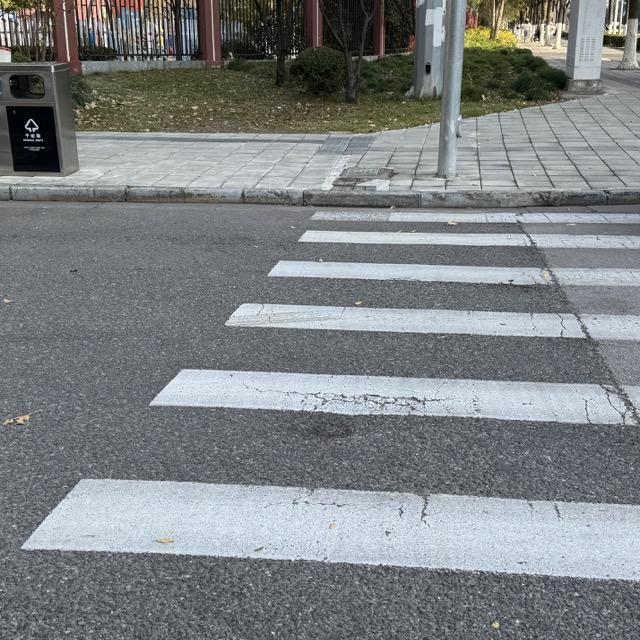curb: (0, 183, 639, 208), (77, 131, 332, 143)
